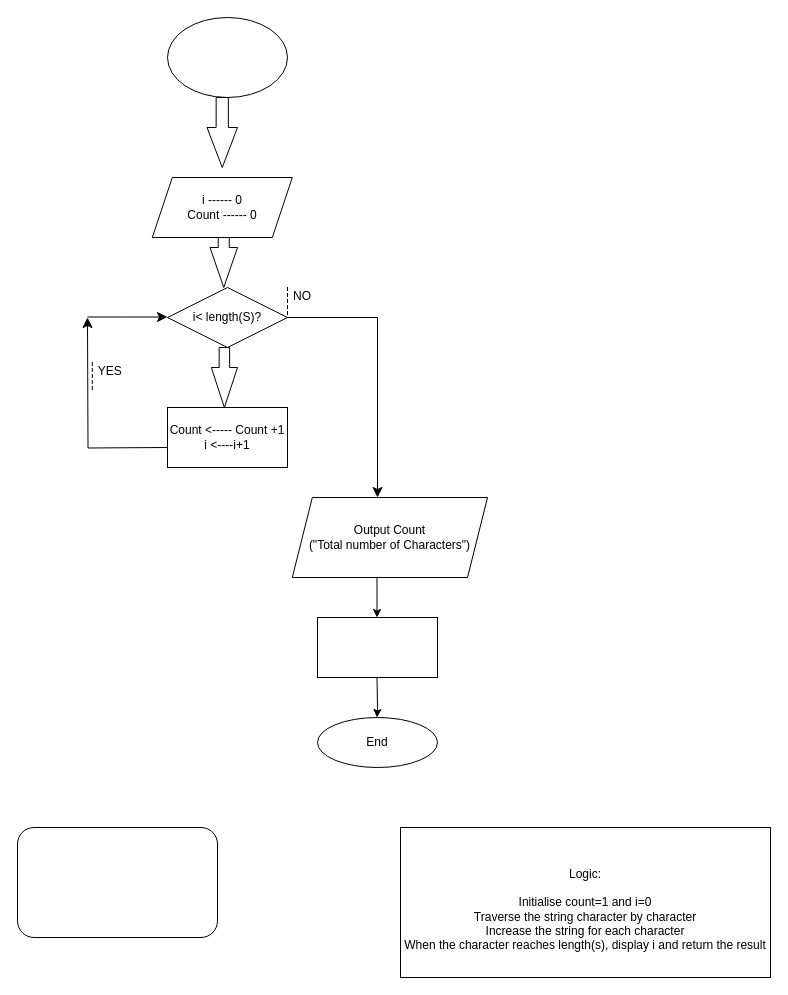
The diagram is 788 pixels wide and 995 high, and some of its shapes have lost their labels. The centre of each missing label's shape, as x and y in pixels:
EXAMPLE: Input: "HELLO" Output=5: the point at 117,882
Return cost: the point at 377,647
START: the point at 227,57
